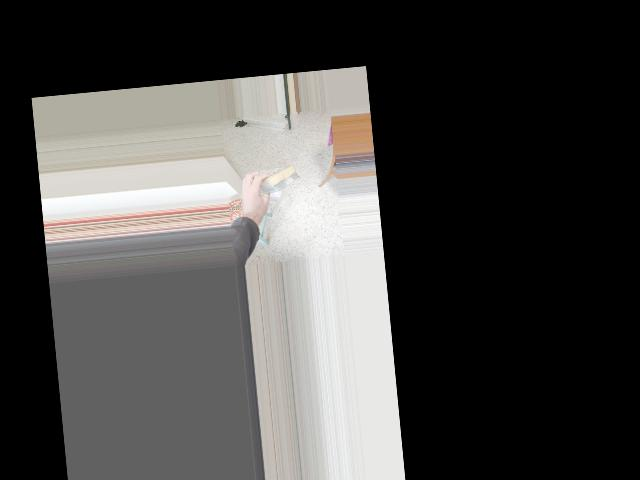cheese: (240, 164, 303, 198)
